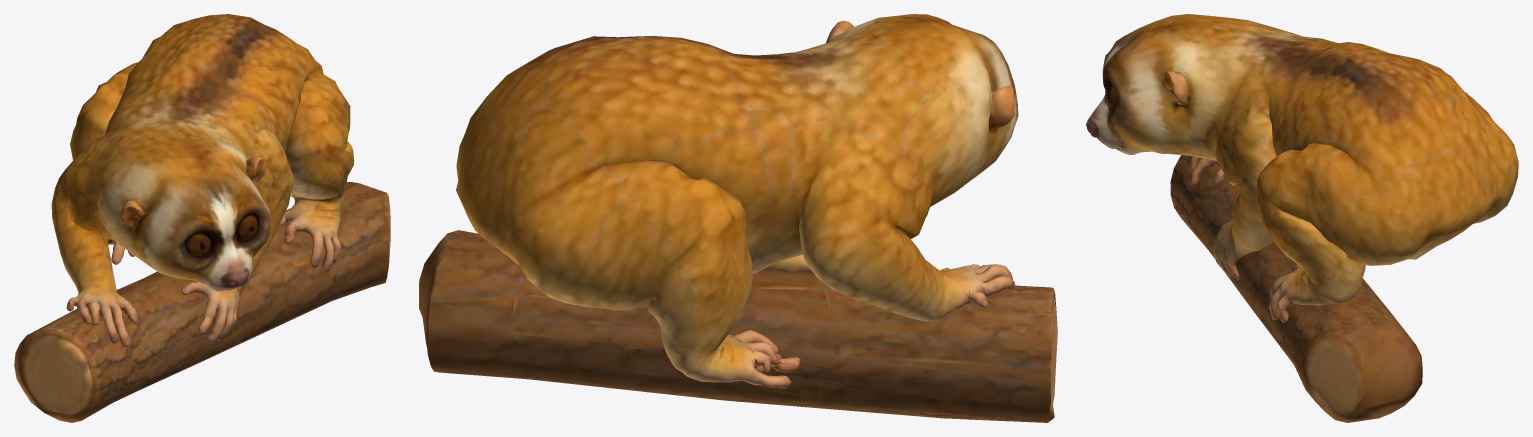
The model's file is loris-oyaki.glb.
3 views of the same model, side by side, from view 1: azimuth 30°, elevation 25°; view 2: azimuth 150°, elevation 25°; view 3: azimuth 270°, elevation 25° (orthographic). The views are drawn at different scales.
Parts seen in each view (by area): view 1: geometry_0; view 2: geometry_0; view 3: geometry_0.
Boxes of the visible parts, x1,y1,x2,y2 form: geometry_0: (14, 14, 390, 422); geometry_0: (419, 14, 1057, 422); geometry_0: (1086, 14, 1518, 422).
Size of the model in its own units: 0.9536 by 0.5982 by 0.8096.
1 material, 1 textured.
